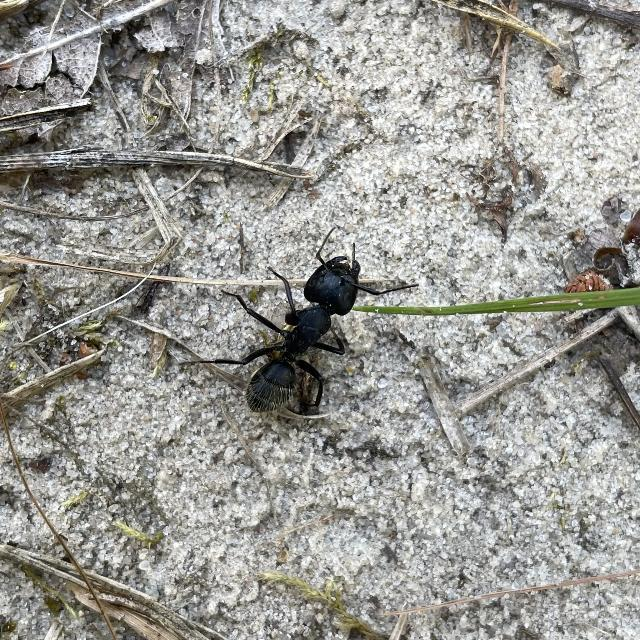Camponotus: (215, 234, 393, 438)
